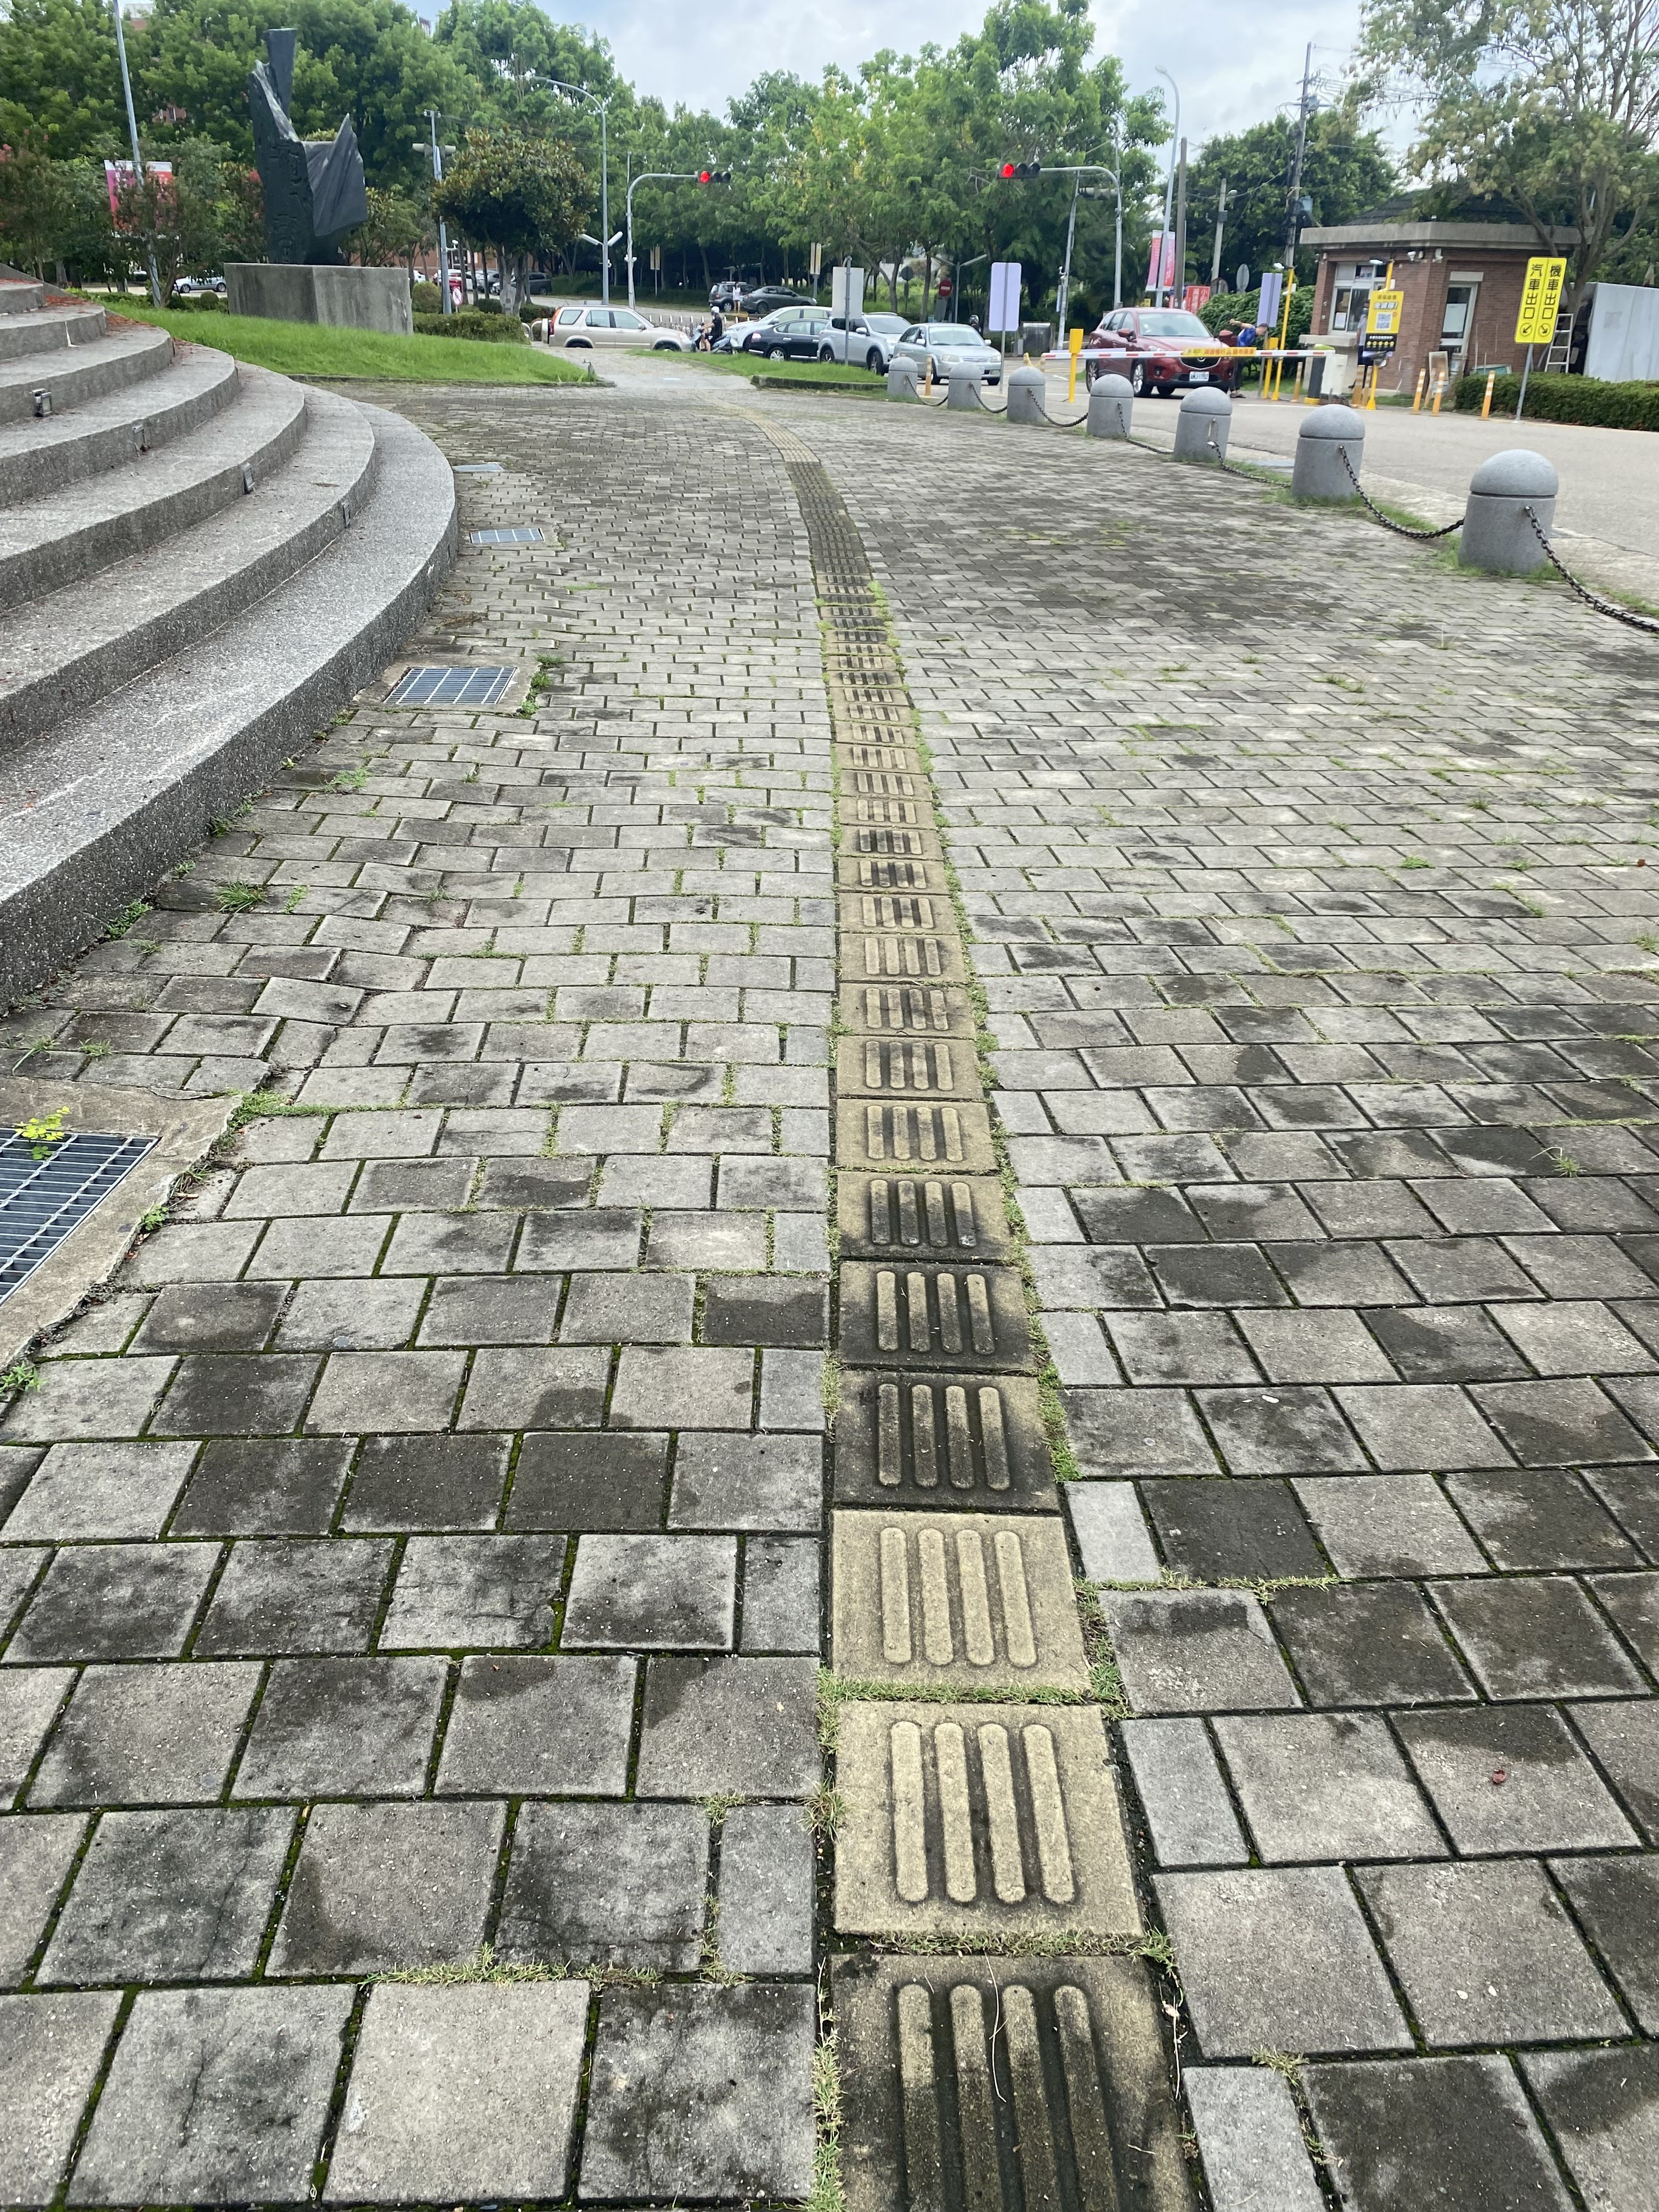sidewalk: (7, 364, 1659, 2212)
